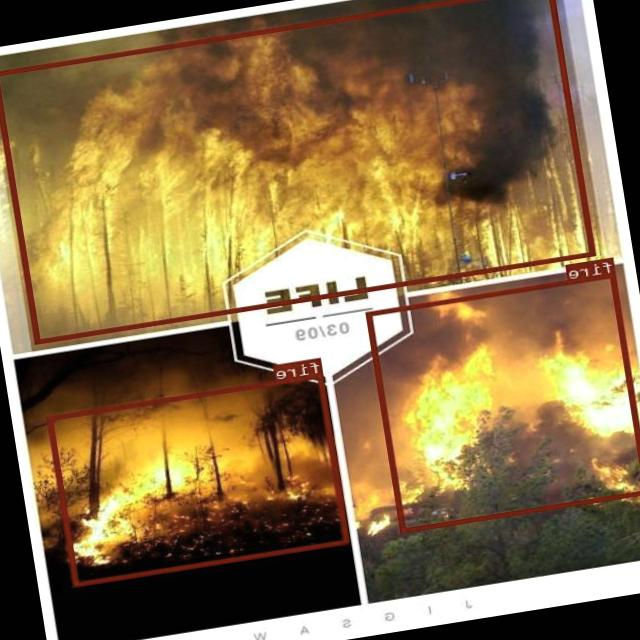fire: (0, 0, 596, 343), (367, 272, 640, 533), (48, 372, 351, 586)
